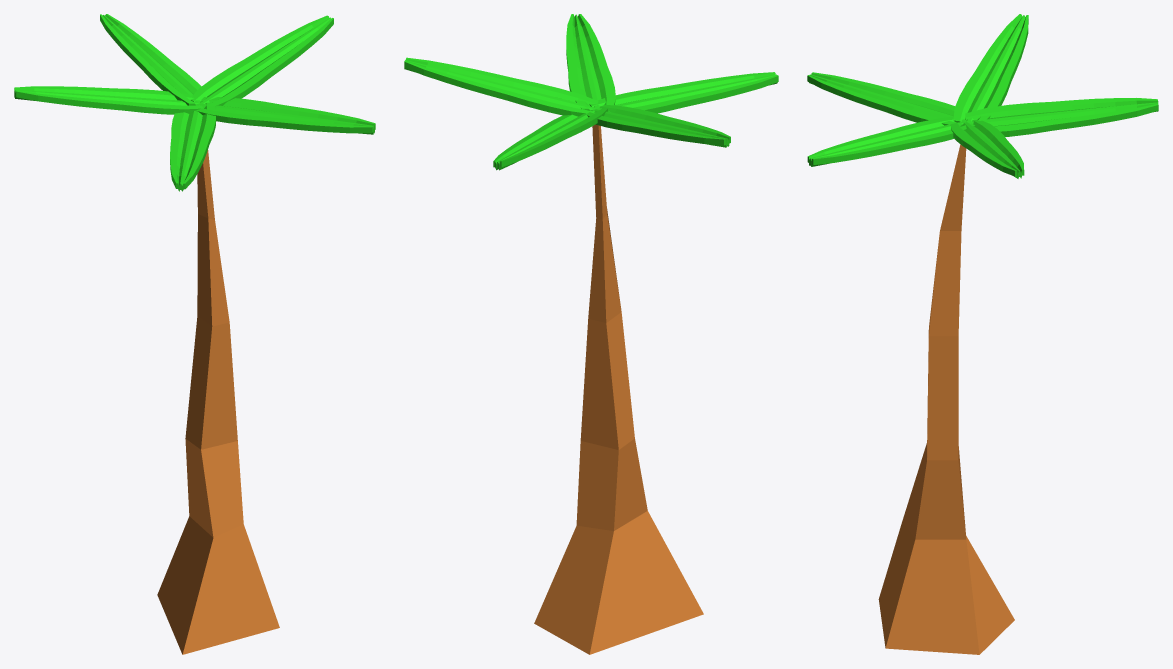
File: palm.fbx
The picture shows the model from 3 angles, left to right: view 1: azimuth 30°, elevation 25°; view 2: azimuth 150°, elevation 25°; view 3: azimuth 270°, elevation 25°; orthographic projection. The views are drawn at different scales.
Parts seen in each view (by area): view 1: Cube, Grid.001; view 2: Cube, Grid.001; view 3: Cube, Grid.001.
Part boxes in pixels (x1,y1,x2,y2): Cube: (157, 150, 279, 654); Grid.001: (14, 14, 375, 191); Cube: (534, 124, 703, 654); Grid.001: (404, 14, 778, 170); Cube: (878, 144, 1014, 654); Grid.001: (807, 14, 1158, 178).
Size of the model in its own units: 992 by 1609 by 952.
